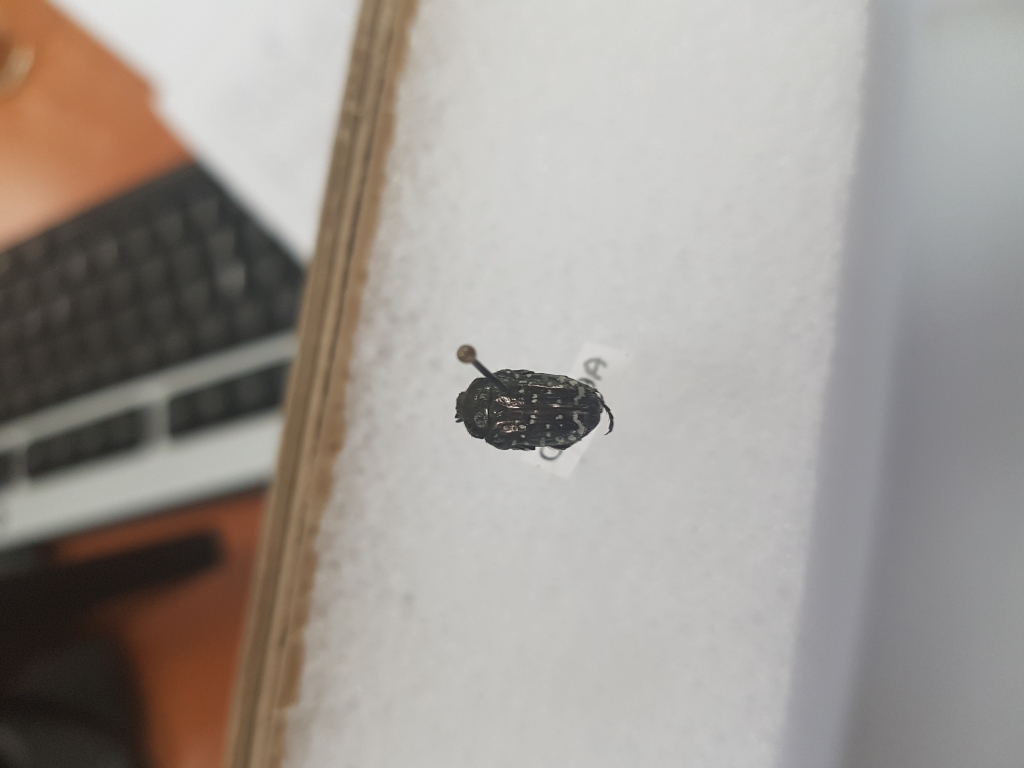Oxythyrea_funesta: (446, 359, 626, 466)
